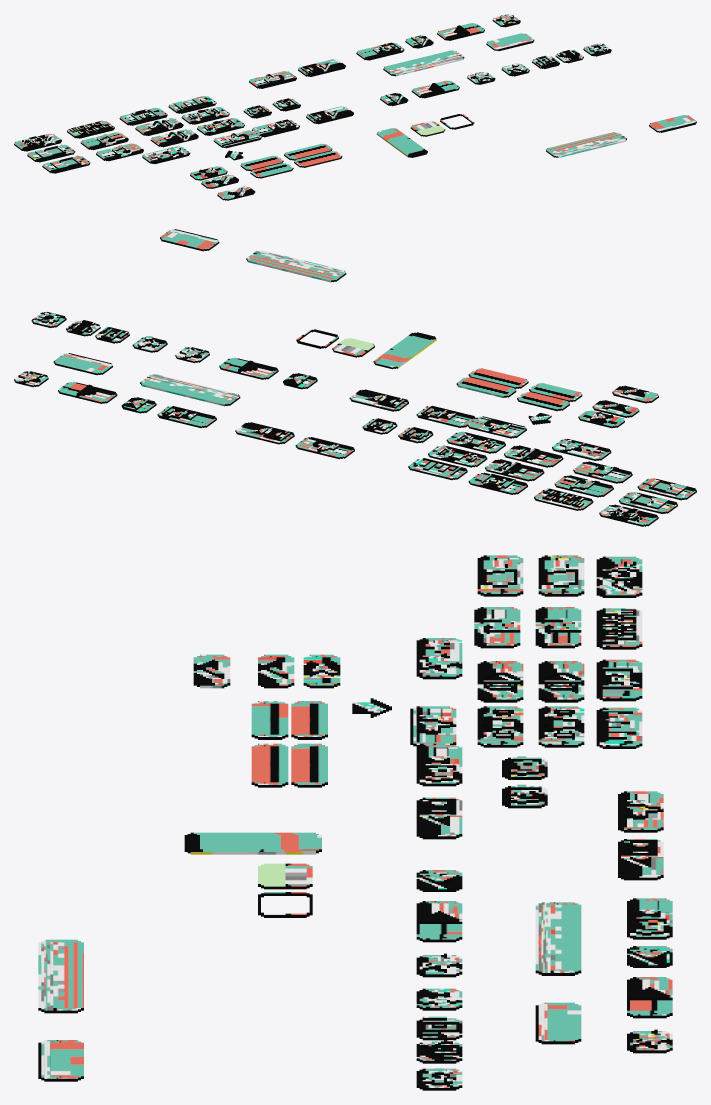
Rendered from UI_elements.dae.
The picture shows the model from 3 angles, top to bottom: view 1: azimuth 30°, elevation 25°; view 2: azimuth 150°, elevation 25°; view 3: azimuth 270°, elevation 25°; orthographic projection. The views are drawn at different scales.
Visible parts, largest first — view 1: button_blank_leftright_longer, button_blank_red_leftright_longer_1, button_blank_topbottom, button_restorepurchase, button_tip, button_rating, button_sound_on, button_sound_off, button_select, button_plusstar, button_alarm_on, button_alarm_off (+22 smaller); view 2: button_blank_red_leftright_longer_1, button_blank_leftright_longer, button_blank_topbottom, button_restorepurchase, button_red_select_1, button_tip, button_select, button_music_on, button_sound_off, button_sound_on, button_music_off, button_red_randomCharacterGet_1 (+22 smaller); view 3: button_blank_red_leftright_longer_1, button_blank_leftright_longer, button_blank_topbottom, button_ad_bonus, button_restorepurchase, button_blank_red_leftright_1, button_sound_on, button_batterysaver_on, button_sound_off, button_batterysaver_off, button_statitics, button_alarm_on (+32 smaller).
Boxes of the visible parts, x1,y1,x2,y2 form: button_blank_leftright_longer: [546, 132, 626, 157]; button_blank_red_leftright_longer_1: [383, 50, 464, 76]; button_blank_topbottom: [376, 128, 427, 157]; button_restorepurchase: [119, 108, 167, 125]; button_tip: [14, 133, 61, 151]; button_rating: [213, 130, 261, 148]; button_sound_on: [135, 118, 183, 135]; button_sound_off: [150, 129, 198, 147]; button_select: [411, 80, 459, 98]; button_plusstar: [142, 146, 190, 163]; button_alarm_on: [181, 107, 229, 124]; button_alarm_off: [197, 118, 244, 135]; button_blank_red_leftright_longer_1: [140, 374, 240, 406]; button_blank_leftright_longer: [246, 250, 346, 282]; button_blank_topbottom: [373, 332, 436, 369]; button_restorepurchase: [468, 472, 527, 494]; button_red_select_1: [58, 381, 117, 403]; button_tip: [599, 504, 658, 526]; button_select: [219, 357, 278, 379]; button_music_on: [554, 475, 613, 497]; button_sound_off: [504, 445, 563, 467]; button_sound_on: [485, 459, 544, 481]; button_music_off: [573, 461, 632, 483]; button_red_randomCharacterGet_1: [157, 406, 216, 428]; button_blank_red_leftright_longer_1: [535, 902, 581, 975]; button_blank_leftright_longer: [38, 939, 83, 1013]; button_blank_topbottom: [184, 832, 321, 854]; button_ad_bonus: [416, 797, 462, 839]; button_restorepurchase: [596, 659, 642, 701]; button_blank_red_leftright_1: [535, 1002, 581, 1044]; button_sound_on: [538, 661, 584, 702]; button_batterysaver_on: [538, 555, 584, 596]; button_sound_off: [477, 661, 523, 702]; button_batterysaver_off: [477, 555, 523, 596]; button_statitics: [596, 707, 642, 748]; button_alarm_on: [538, 706, 584, 747].
Bounding box in the file's own units: 413 × 3 × 208.
Materials: 1 (1 with a texture image).
